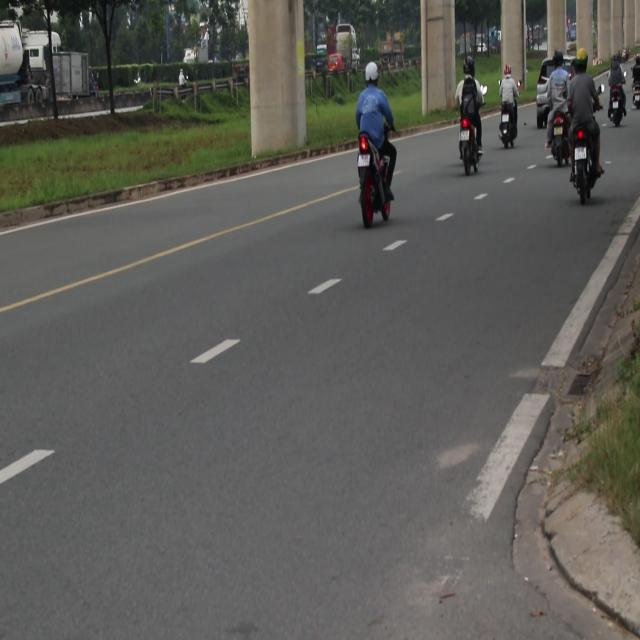car: (532, 46, 587, 126), (327, 48, 344, 82)
motorbike: (357, 146, 408, 244), (458, 120, 492, 183), (545, 106, 573, 169), (173, 63, 200, 114), (501, 100, 518, 150), (609, 83, 628, 127), (630, 64, 640, 108)
truck: (52, 43, 100, 105)
